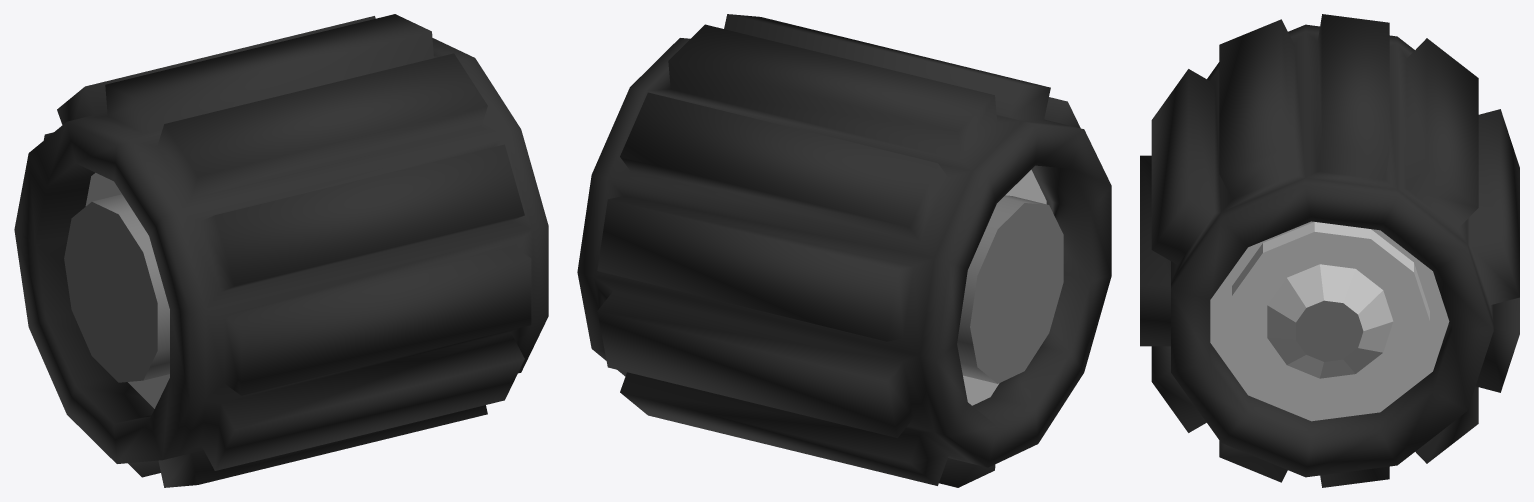
Rendered from Roue.fbx.
3 renders of one model, left to right at view 1: azimuth 30°, elevation 25°; view 2: azimuth 150°, elevation 25°; view 3: azimuth 270°, elevation 25°, orthographic. The views are drawn at different scales.
Visible parts, largest first — view 1: roue, jantes; view 2: roue, jantes; view 3: roue, jantes.
Part boxes in pixels (left/top/right/bottom): roue: left=14, top=14, right=548, bottom=487; jantes: left=64, top=172, right=169, bottom=408; roue: left=577, top=14, right=1111, bottom=487; jantes: left=957, top=169, right=1063, bottom=405; roue: left=1140, top=14, right=1519, bottom=487; jantes: left=1210, top=221, right=1449, bottom=421.
Bounding box in the file's own units: 1 × 1 × 1.
